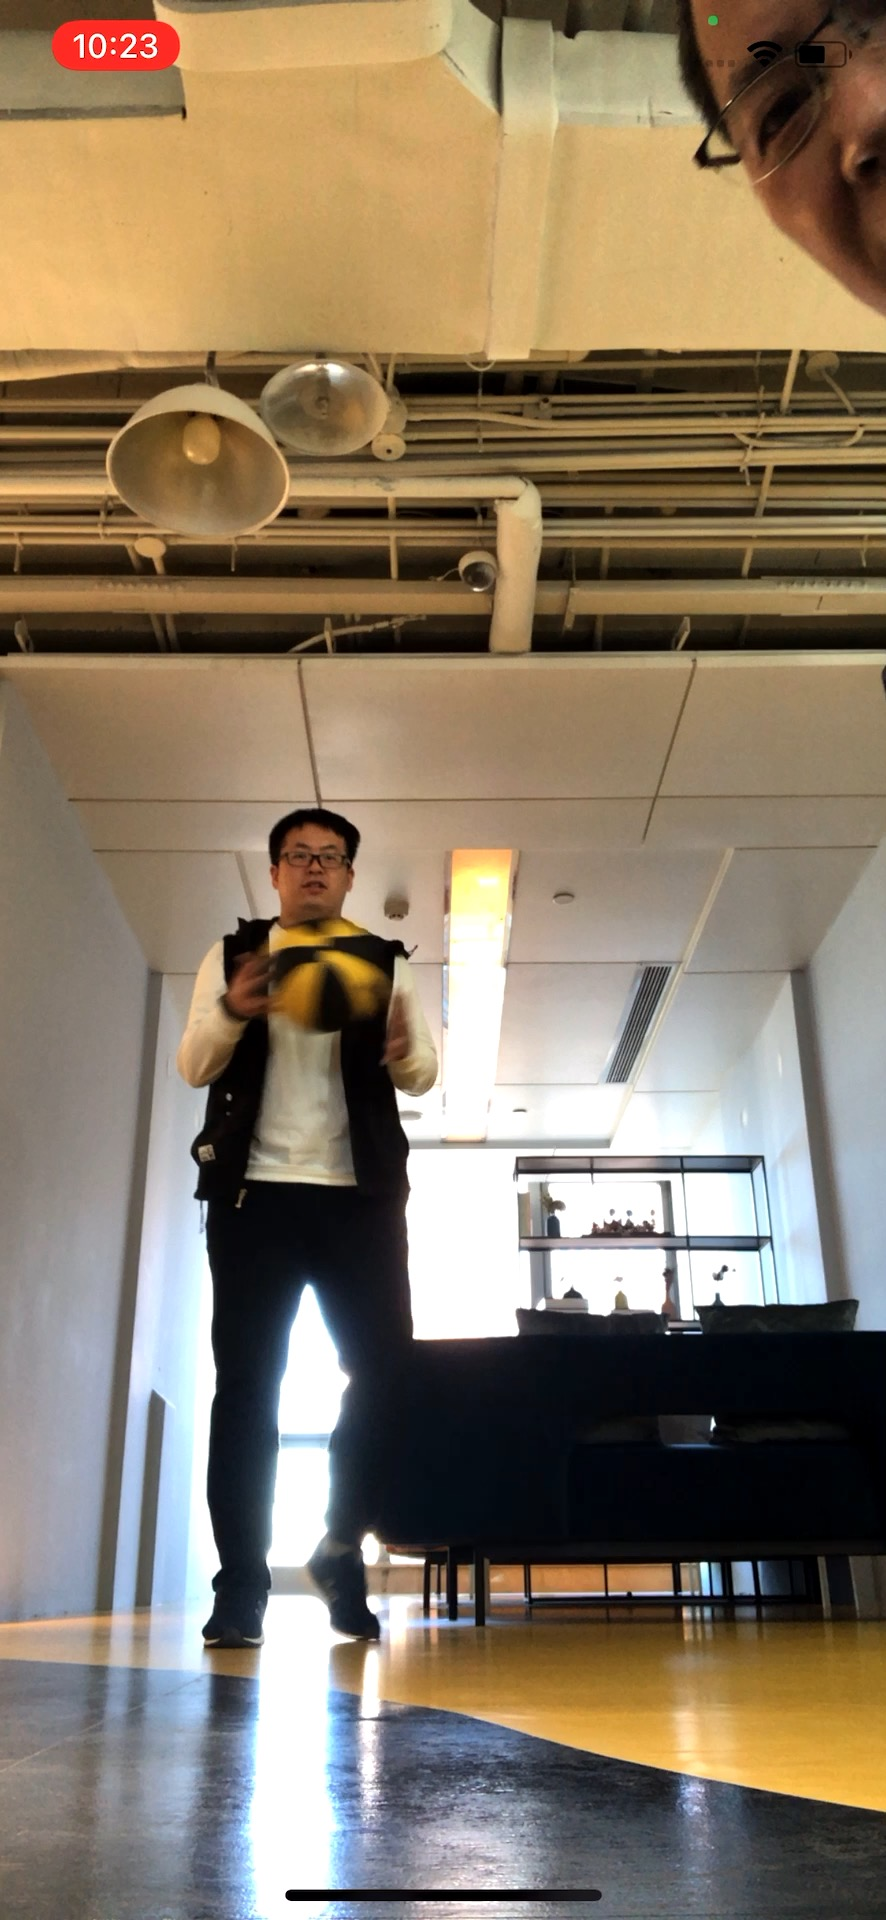ball: (277, 920, 401, 1035)
